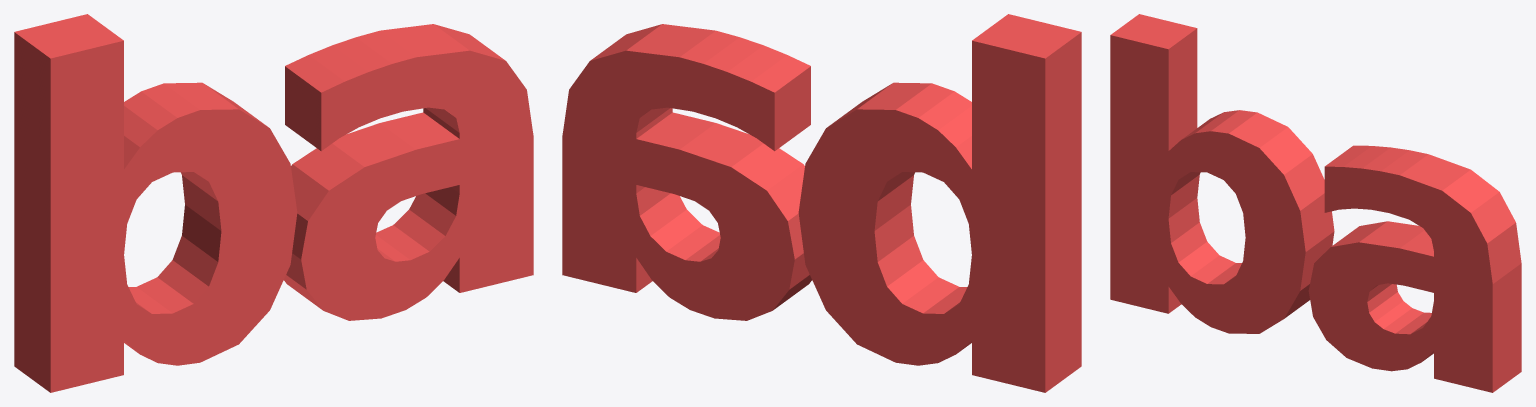
Rendered from suku_kecil_ba.glb.
3 views of the same model, side by side, from view 1: azimuth 30°, elevation 25°; view 2: azimuth 150°, elevation 25°; view 3: azimuth 330°, elevation 25° (orthographic). The views are drawn at different scales.
Parts seen in each view (by area): view 1: geometry_0; view 2: geometry_0; view 3: geometry_0.
Part boxes in pixels (x1,y1,x2,y2): geometry_0: (14, 14, 533, 392); geometry_0: (562, 14, 1081, 392); geometry_0: (1110, 14, 1521, 392).
Size of the model in its own units: 11.49 by 7.74 by 1.5.
